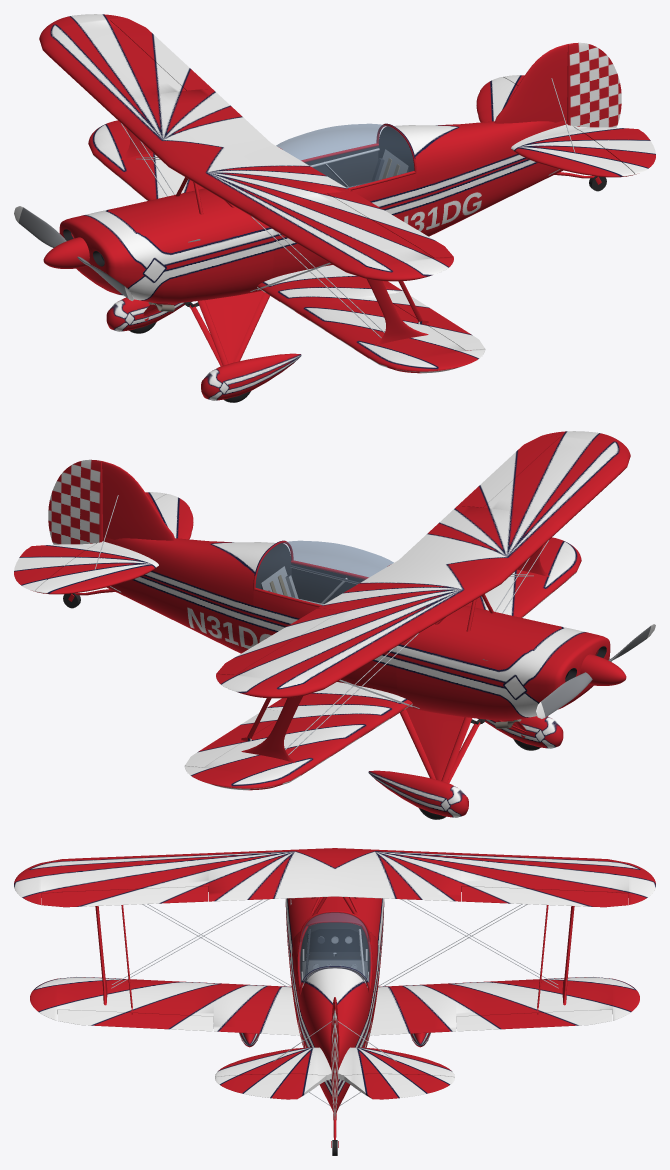
Rendered from pitts-s2b-like-own.glb.
The picture shows the model from 3 angles, top to bottom: view 1: azimuth 30°, elevation 25°; view 2: azimuth 150°, elevation 25°; view 3: azimuth 270°, elevation 25°; orthographic projection. The views are drawn at different scales.
Visible parts, largest first — view 1: Fuselage_Painted, Wing_Upper, Wing_Lower, Canopy_Glass, Stab, Rudder, Wheel_Pants, Fin, Gear_Fairing, Elevator_L, Aileron_UR, Aileron_UL (+8 smaller); view 2: Fuselage_Painted, Wing_Upper, Wing_Lower, Canopy_Glass, Stab, Rudder, Wheel_Pants, Fin, Gear_Fairing, Elevator_R, Aileron_UL, Aileron_UR (+8 smaller); view 3: Wing_Upper, Wing_Lower, Fuselage_Painted, Stab, Canopy_Glass, Aileron_UL, Aileron_UR, Aileron_LL, Aileron_LR, Cockpit, Elevator_L, Elevator_R (+4 smaller).
Part boxes in pixels (<box>): Fuselage_Painted: <box>59,120,567,303</box>; Wing_Upper: <box>39,14,453,281</box>; Wing_Lower: <box>88,120,485,373</box>; Canopy_Glass: <box>276,123,413,187</box>; Stab: <box>476,77,634,177</box>; Rudder: <box>567,42,621,127</box>; Wheel_Pants: <box>106,297,301,400</box>; Fin: <box>494,44,568,123</box>; Gear_Fairing: <box>152,291,263,363</box>; Elevator_L: <box>574,126,655,174</box>; Aileron_UR: <box>110,19,211,90</box>; Aileron_UL: <box>327,191,453,257</box>; Fuselage_Painted: <box>102,537,610,720</box>; Wing_Upper: <box>216,431,630,698</box>; Wing_Lower: <box>184,537,581,790</box>; Canopy_Glass: <box>256,540,393,604</box>; Stab: <box>35,494,193,594</box>; Rudder: <box>48,459,102,544</box>; Wheel_Pants: <box>368,716,563,817</box>; Fin: <box>101,461,175,540</box>; Gear_Fairing: <box>406,708,517,780</box>; Elevator_R: <box>14,543,95,591</box>; Aileron_UL: <box>458,436,559,507</box>; Aileron_UR: <box>216,608,342,674</box>; Wing_Upper: <box>14,848,655,904</box>; Wing_Lower: <box>30,977,639,1035</box>; Fuselage_Painted: <box>285,896,384,1112</box>; Stab: <box>215,1047,454,1080</box>; Canopy_Glass: <box>299,912,370,984</box>; Aileron_UL: <box>41,886,207,907</box>; Aileron_UR: <box>462,886,628,907</box>; Aileron_LL: <box>57,1007,213,1031</box>; Aileron_LR: <box>456,1007,612,1031</box>; Cockpit: <box>301,928,368,987</box>; Elevator_L: <box>215,1074,326,1099</box>; Elevator_R: <box>343,1074,454,1099</box>.
Bounding box in the file's own units: 5.72 × 2.18 × 6.09.
Materials: 30 (8 with a texture image).
